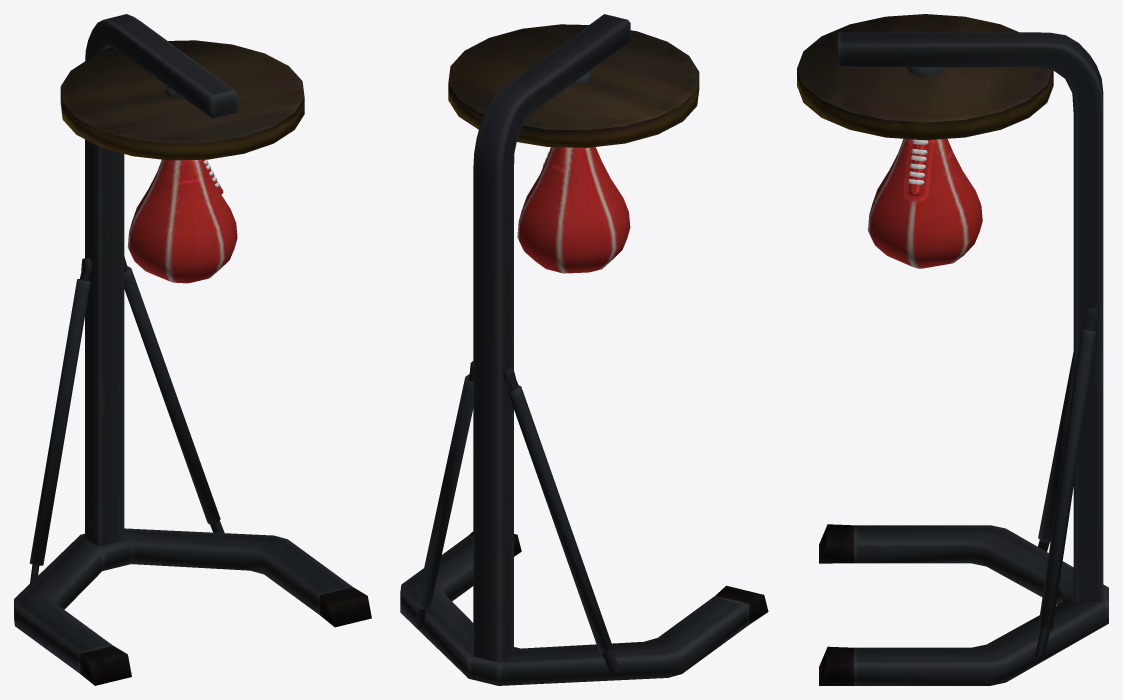
3 renders of one model, left to right at view 1: azimuth 30°, elevation 25°; view 2: azimuth 150°, elevation 25°; view 3: azimuth 270°, elevation 25°, orthographic. The views are drawn at different scales.
Bounding box in the file's own units: 9.41 × 17.95 × 8.78.
1 material, 1 textured.
